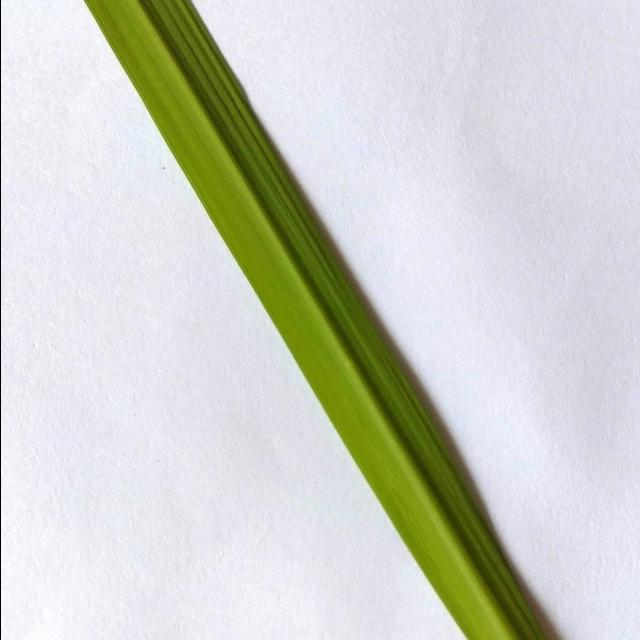healthy: (64, 0, 562, 640)
